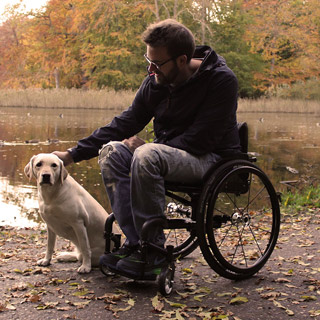wheelchair: (101, 19, 281, 298)
